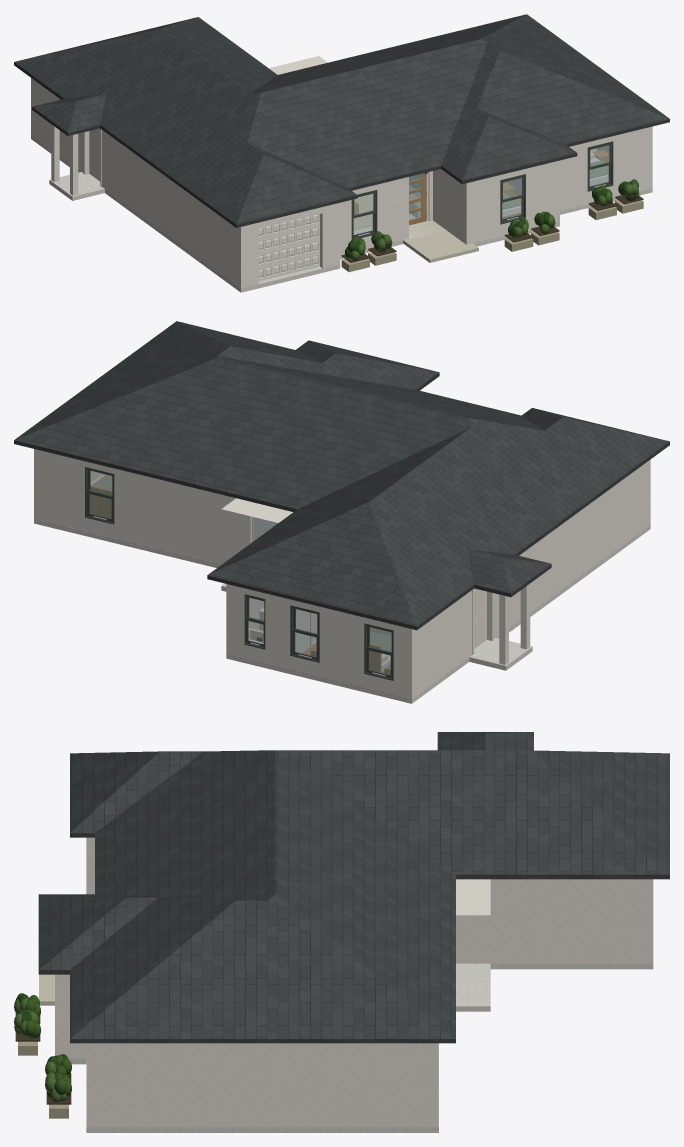
The model's file is utah-plan-v3.glb.
3 renders of one model, top to bottom at view 1: azimuth 30°, elevation 25°; view 2: azimuth 150°, elevation 25°; view 3: azimuth 270°, elevation 25°, orthographic. The views are drawn at different scales.
Parts seen in each view (by area): view 1: 165 Componente#83, 075 Componente#3, 085 Componente#13, 083 Componente#11, 001 Group, 073 Componente#1, 079 Componente#7, 082 Componente#10, Acceso piedra, 076 Componente#4, 077 Componente#5, 135 Componente#62 (+5 smaller); view 2: 165 Componente#83, 086 Componente#14, 075 Componente#3, 074 Componente#2, 073 Componente#1, Utah · cielo raso a 8 ft, 135 Componente#62, 166 Componente#84, 167 Componente#85, Cabecero roble; view 3: 165 Componente#83, 088 Componente#16, 087 Componente#15, 073 Componente#1, Utah · cielo raso a 8 ft, 084 Componente#12, 074 Componente#2, 086 Componente#14, 085 Componente#13, 083 Componente#11.
Boxes of the visible parts, x1,y1,x2,y2 form: 165 Componente#83: (14, 14, 669, 227); 075 Componente#3: (34, 80, 246, 288); 085 Componente#13: (560, 126, 652, 210); 083 Componente#11: (472, 160, 559, 243); 001 Group: (258, 212, 323, 283); 073 Componente#1: (31, 135, 652, 292); 079 Componente#7: (340, 177, 408, 254); 082 Componente#10: (433, 169, 471, 244); Acceso piedra: (403, 221, 478, 262); 076 Componente#4: (246, 207, 323, 287); 077 Componente#5: (323, 203, 340, 268); 135 Componente#62: (89, 128, 100, 181); 165 Componente#83: (14, 321, 669, 630); 086 Componente#14: (34, 449, 251, 564); 075 Componente#3: (415, 459, 650, 696); 074 Componente#2: (226, 584, 415, 698); 073 Componente#1: (34, 474, 650, 703); Utah · cielo raso a 8 ft: (221, 498, 292, 522); 135 Componente#62: (474, 588, 486, 648); 166 Componente#84: (499, 594, 508, 664); 167 Componente#85: (520, 583, 530, 649); Cabecero roble: (90, 485, 112, 518); 165 Componente#83: (38, 732, 669, 1043); 088 Componente#16: (94, 1043, 430, 1127); 087 Componente#15: (456, 879, 644, 963); 073 Componente#1: (68, 963, 653, 1132); Utah · cielo raso a 8 ft: (456, 879, 490, 915); 084 Componente#12: (63, 974, 86, 1058); 074 Componente#2: (645, 879, 653, 963); 086 Componente#14: (430, 1043, 438, 1127); 085 Componente#13: (86, 1043, 94, 1127); 083 Componente#11: (55, 974, 63, 1055).
Size of the model in its own units: 17.58 by 4.59 by 15.88.
53 materials, 21 textured.
